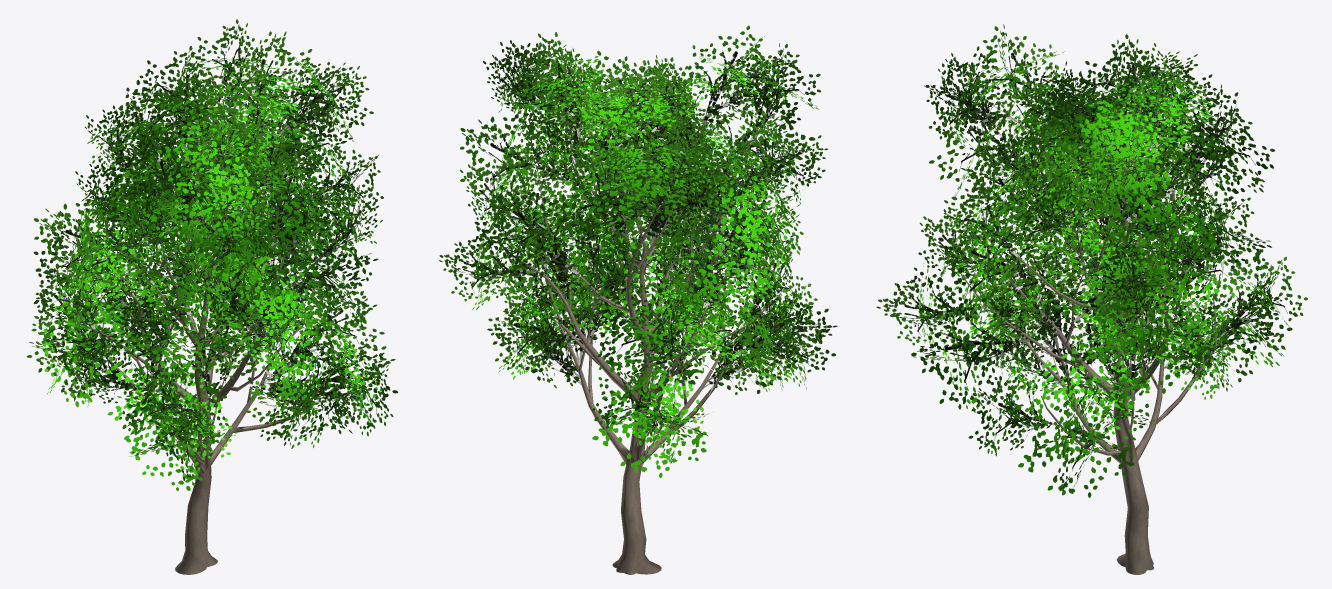
Rendered from tree_Broadleaf_L1_LOD0.fbx.
3 views of the same model, side by side, from view 1: azimuth 30°, elevation 25°; view 2: azimuth 150°, elevation 25°; view 3: azimuth 270°, elevation 25° (orthographic). The views are drawn at different scales.
Parts seen in each view (by area): view 1: Broadleaf_L1_LOD0; view 2: Broadleaf_L1_LOD0; view 3: Broadleaf_L1_LOD0.
Part boxes in pixels (x1=…): Broadleaf_L1_LOD0: x1=26, y1=19, x2=397, y2=574; Broadleaf_L1_LOD0: x1=439, y1=25, x2=837, y2=574; Broadleaf_L1_LOD0: x1=876, y1=24, x2=1307, y2=574.
Size of the model in its own units: 1258 by 1813 by 1369.
